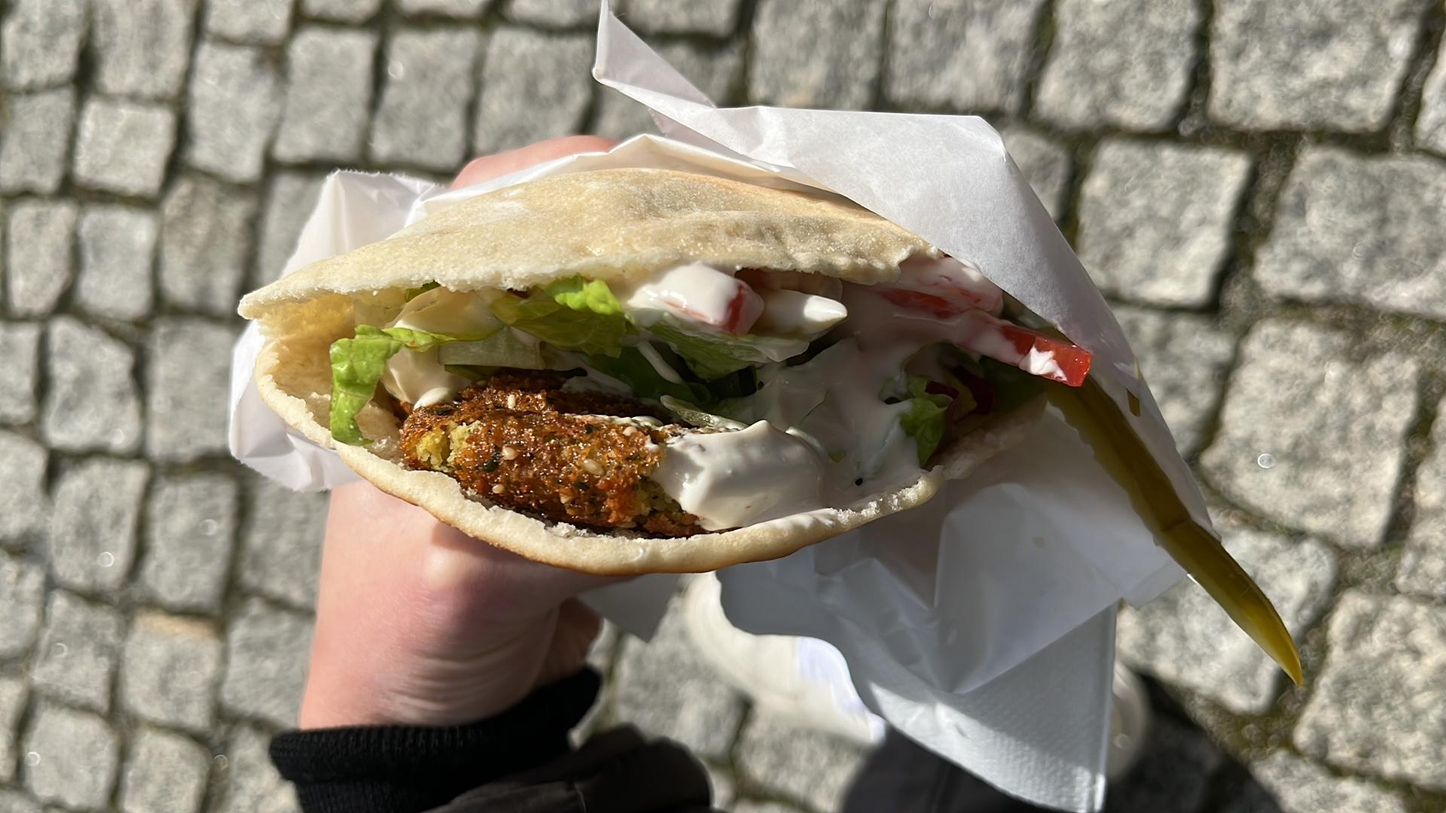bell pepper: (828, 277, 1101, 394), (616, 265, 794, 346)
lettuce: (318, 282, 560, 426), (503, 280, 779, 384), (524, 337, 725, 425), (837, 369, 953, 492)
